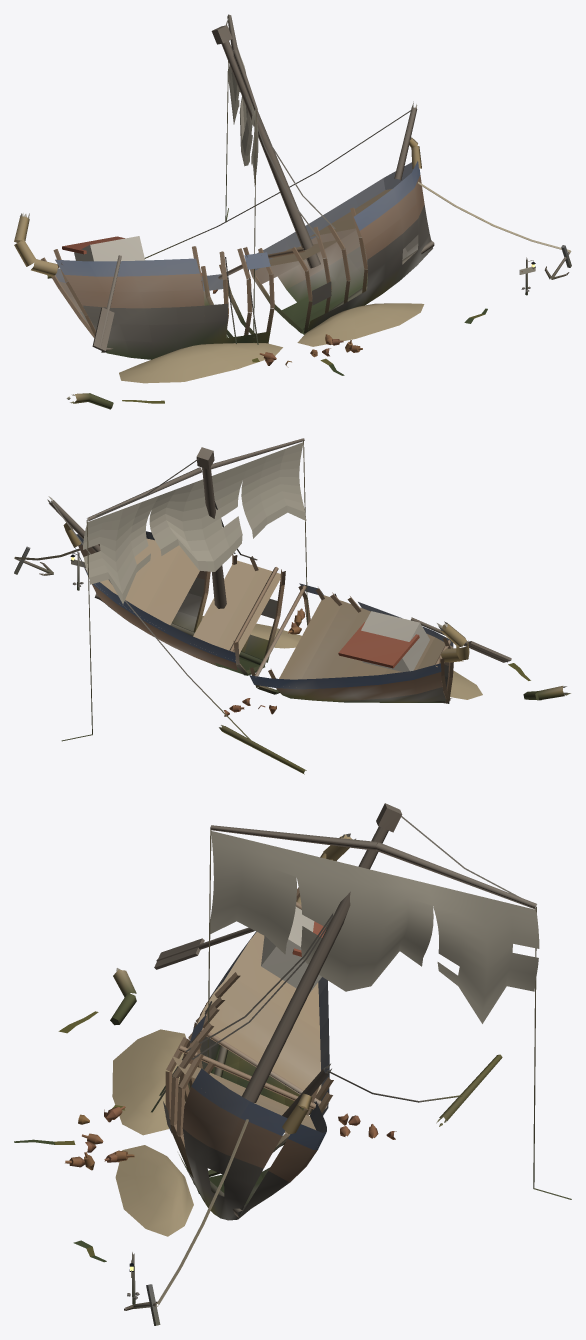
Rendered from wreck_great_hulk.glb.
3 renders of one model, top to bottom at view 1: azimuth 30°, elevation 25°; view 2: azimuth 150°, elevation 25°; view 3: azimuth 270°, elevation 25°, orthographic. The views are drawn at different scales.
Visible parts, largest first — view 1: hull, rag; view 2: hull, rag; view 3: hull, rag.
Boxes of the visible parts, <box> form: hull: <box>14,14,571,409</box>; rag: <box>228,49,258,186</box>; hull: <box>14,438,570,774</box>; rag: <box>83,442,306,604</box>; hull: <box>14,803,571,1325</box>; rag: <box>210,831,539,1023</box>.
Bounding box in the file's own units: 36.41 × 17.97 × 24.4.
